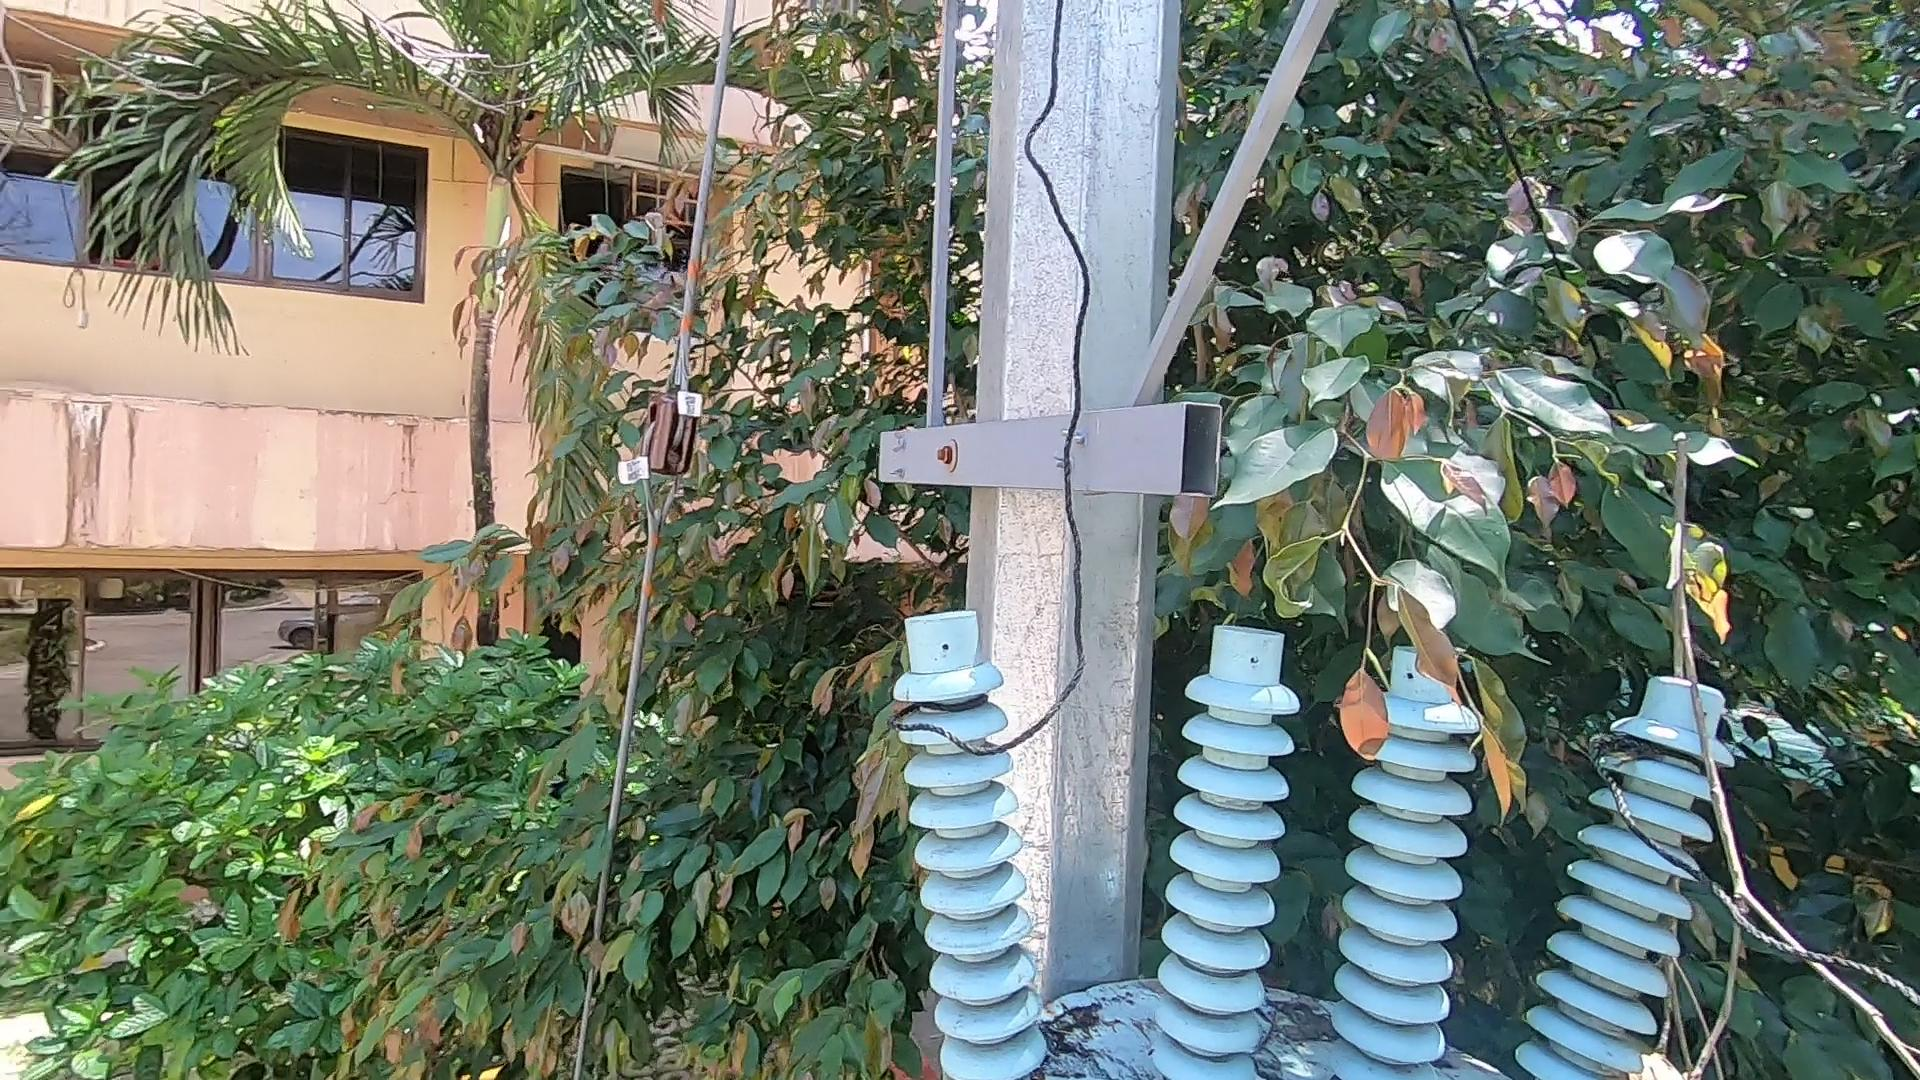branch with leaves: (1646, 407, 1919, 1080)
